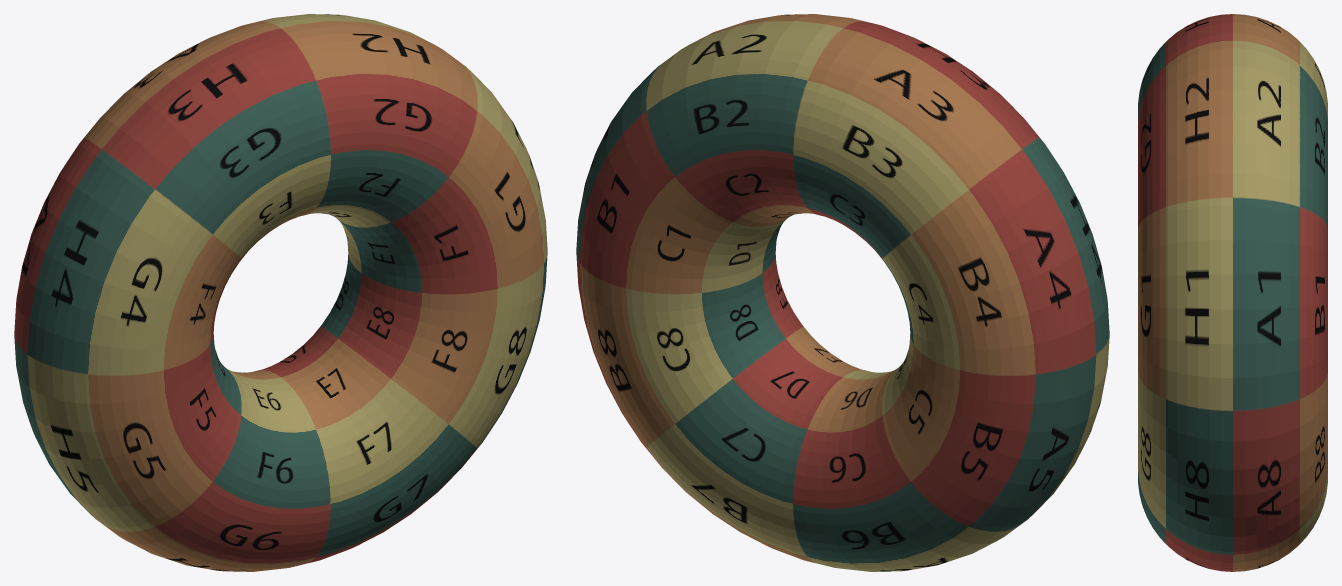
File: texture_torus_R14_r30.glb
The picture shows the model from 3 angles, left to right: view 1: azimuth 30°, elevation 25°; view 2: azimuth 150°, elevation 25°; view 3: azimuth 270°, elevation 25°; orthographic projection. The views are drawn at different scales.
Parts seen in each view (by area): view 1: world; view 2: world; view 3: world.
Boxes of the visible parts, x1,y1,x2,y2 form: world: (14,14,547,571); world: (576,14,1109,571); world: (1138,14,1327,571).
Size of the model in its own units: 29.33 by 29.28 by 9.98.
1 material, 1 textured.
